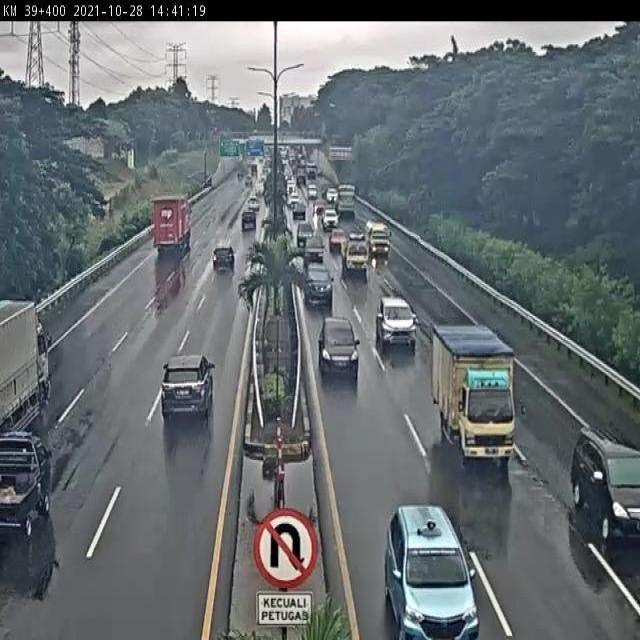car: (159, 354, 214, 422), (316, 317, 359, 380), (376, 297, 417, 352), (304, 264, 334, 311), (213, 245, 235, 272)
truck-m-: (431, 324, 517, 467), (340, 234, 369, 274)
